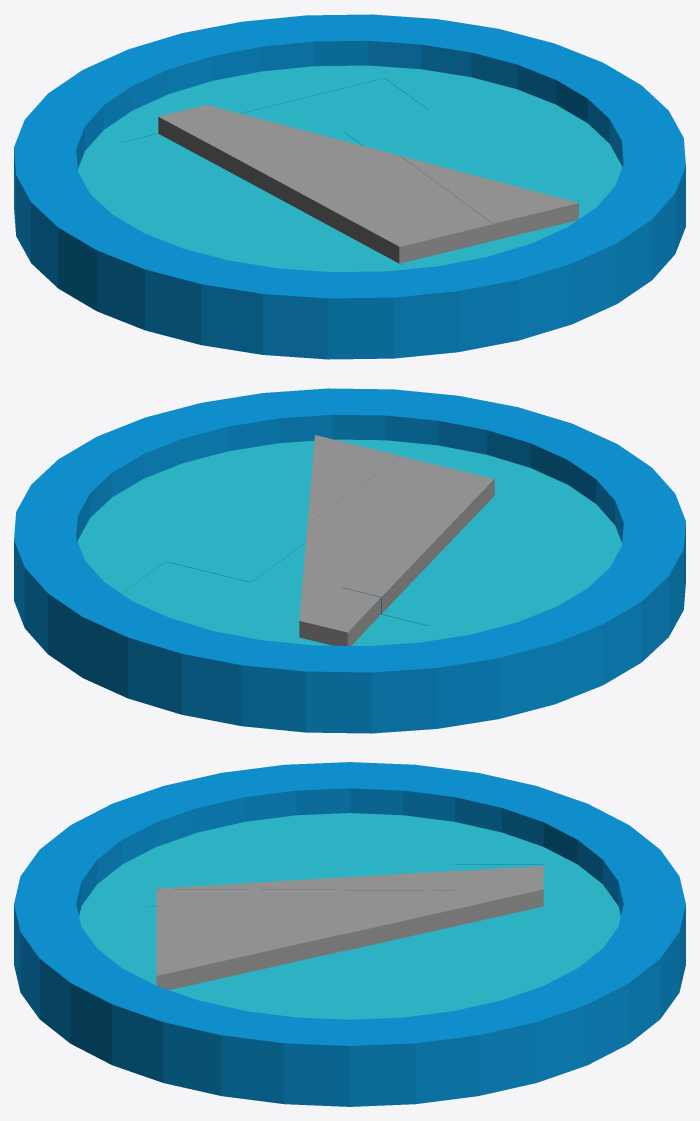
Rendered from flycoin.fbx.
3 views of the same model, one above another, from view 1: azimuth 30°, elevation 25°; view 2: azimuth 150°, elevation 25°; view 3: azimuth 270°, elevation 25° (orthographic).
Visible parts, largest first — view 1: Cylinder; view 2: Cylinder; view 3: Cylinder.
Part boxes in pixels (box(x1,y1,x2,y2)): Cylinder: box(14, 14, 685, 359); Cylinder: box(14, 388, 685, 733); Cylinder: box(14, 762, 685, 1106).
Size of the model in its own units: 200 by 20 by 200.
